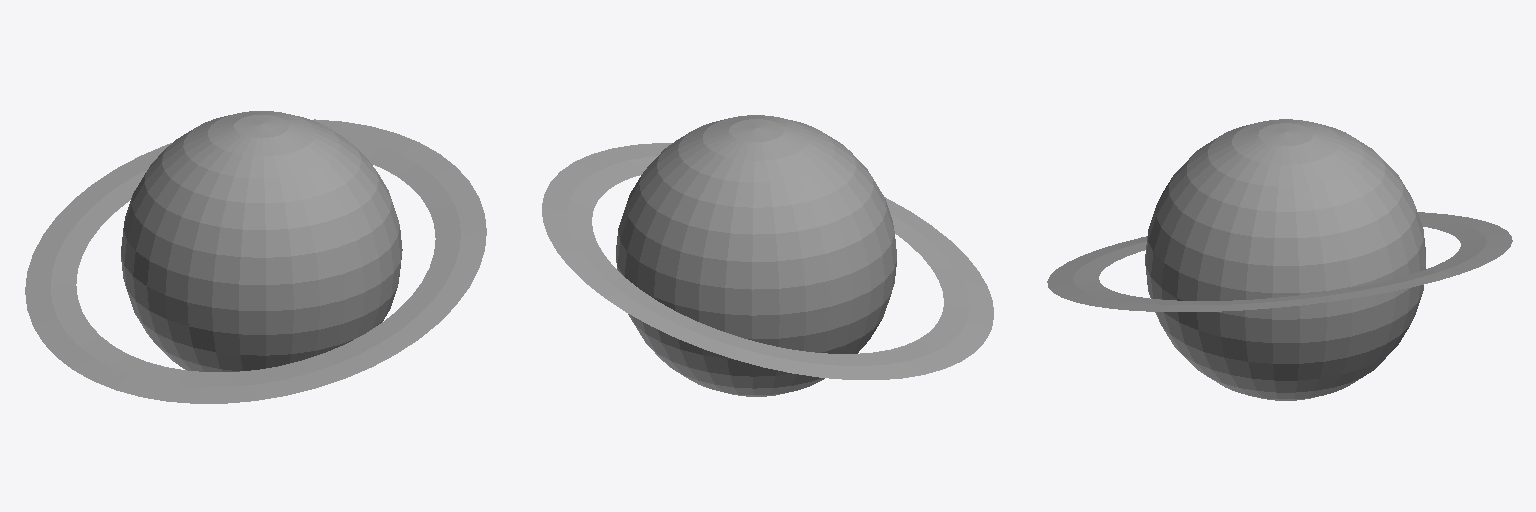
The model's file is Mage_Ice.obj.
3 views of the same model, side by side, from view 1: azimuth 30°, elevation 25°; view 2: azimuth 150°, elevation 25°; view 3: azimuth 270°, elevation 25° (orthographic).
Parts seen in each view (by area): view 1: orb_Sphere, ring_Torus; view 2: orb_Sphere, ring_Torus; view 3: orb_Sphere, ring_Torus.
Boxes of the visible parts, x1=… form: orb_Sphere: x1=121, y1=111, x2=402, y2=371; ring_Torus: x1=25, y1=119, x2=486, y2=403; orb_Sphere: x1=616, y1=115, x2=896, y2=396; ring_Torus: x1=542, y1=143, x2=993, y2=379; orb_Sphere: x1=1145, y1=119, x2=1425, y2=400; ring_Torus: x1=1047, y1=212, x2=1512, y2=311.
Bounding box in the file's own units: 3.22 × 2 × 3.3.